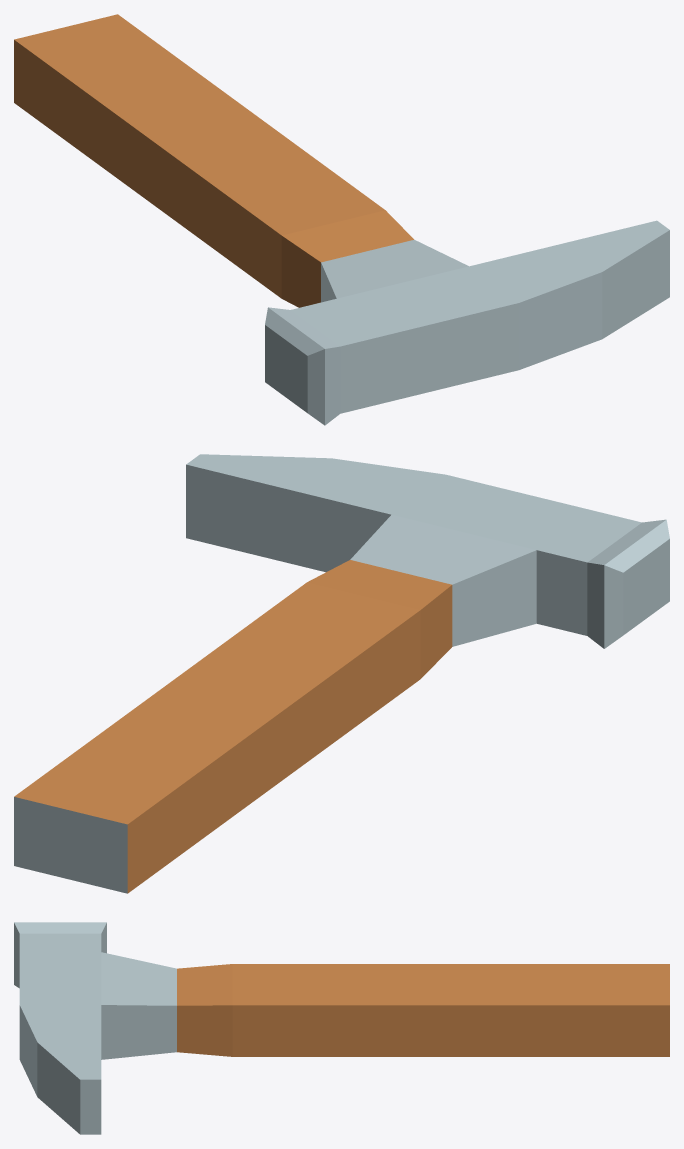
File: hammer.fbx
The picture shows the model from 3 angles, top to bottom: view 1: azimuth 30°, elevation 25°; view 2: azimuth 150°, elevation 25°; view 3: azimuth 270°, elevation 25°; orthographic projection. The views are drawn at different scales.
Visible parts, largest first — view 1: Cube; view 2: Cube; view 3: Cube.
Part boxes in pixels (left/top/right/bottom): Cube: left=14, top=14, right=669, bottom=425; Cube: left=14, top=454, right=669, bottom=893; Cube: left=14, top=922, right=669, bottom=1134.
Bounding box in the file's own units: 99.15 × 18.36 × 174.
